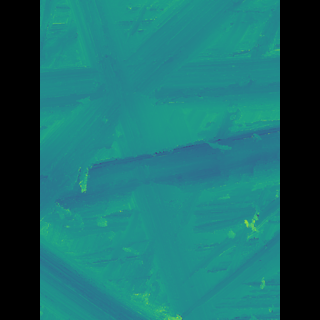Loch: (69, 0, 226, 223), (97, 117, 252, 205)
